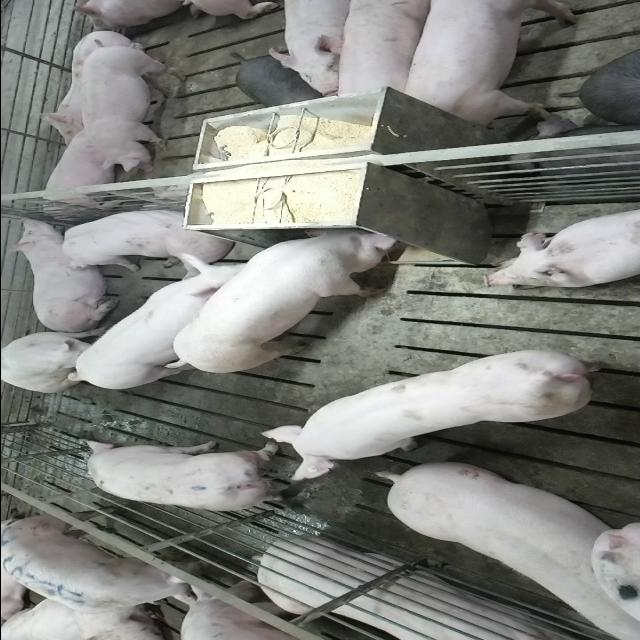Feeding: (170, 218, 402, 370)
Sitting: (58, 204, 232, 270), (0, 329, 109, 393)
Standing: (253, 342, 608, 476), (373, 458, 633, 634), (66, 261, 256, 393), (394, 1, 580, 126), (0, 516, 210, 616), (80, 438, 302, 514), (82, 39, 192, 175), (332, 3, 434, 107), (269, 0, 357, 99)
Sternal_lying: (172, 539, 578, 640), (483, 207, 640, 289), (3, 218, 115, 328), (36, 130, 128, 213)
